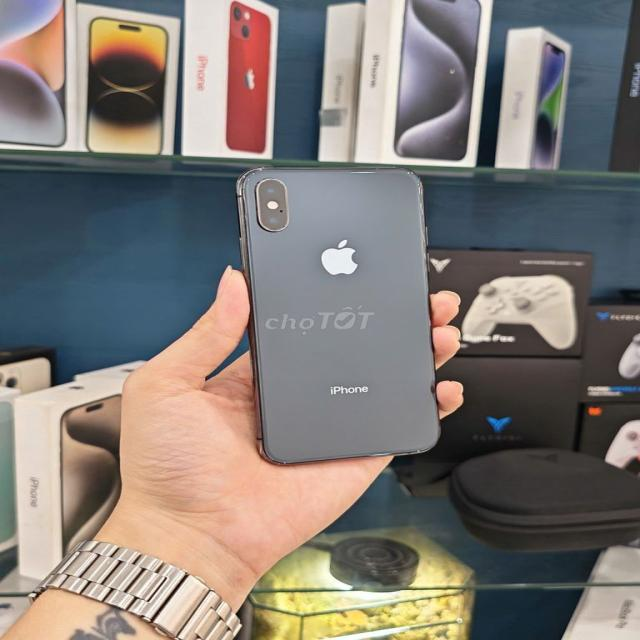gen_x_xs: (205, 149, 469, 481)
